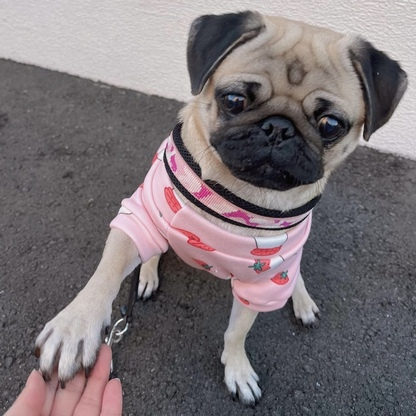Pug: (28, 6, 409, 409)
